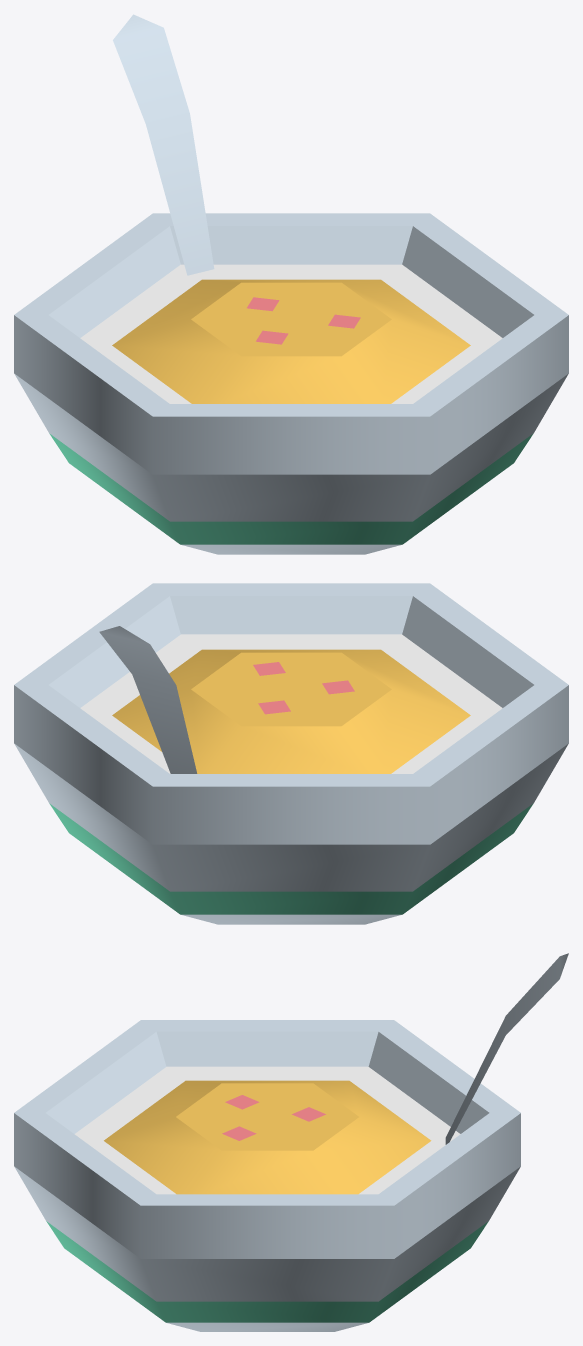
Rendered from Bowl_Cereal.glb.
The picture shows the model from 3 angles, top to bottom: view 1: azimuth 30°, elevation 25°; view 2: azimuth 150°, elevation 25°; view 3: azimuth 270°, elevation 25°; orthographic projection. The views are drawn at different scales.
Visible parts, largest first — view 1: bowlCereal; view 2: bowlCereal; view 3: bowlCereal.
Boxes of the visible parts, left/top/right/bottom form: bowlCereal: left=14, top=14, right=568, bottom=554; bowlCereal: left=14, top=583, right=568, bottom=924; bowlCereal: left=14, top=953, right=568, bottom=1331.
Size of the model in its own units: 0.5022 by 0.4193 by 0.6346.
